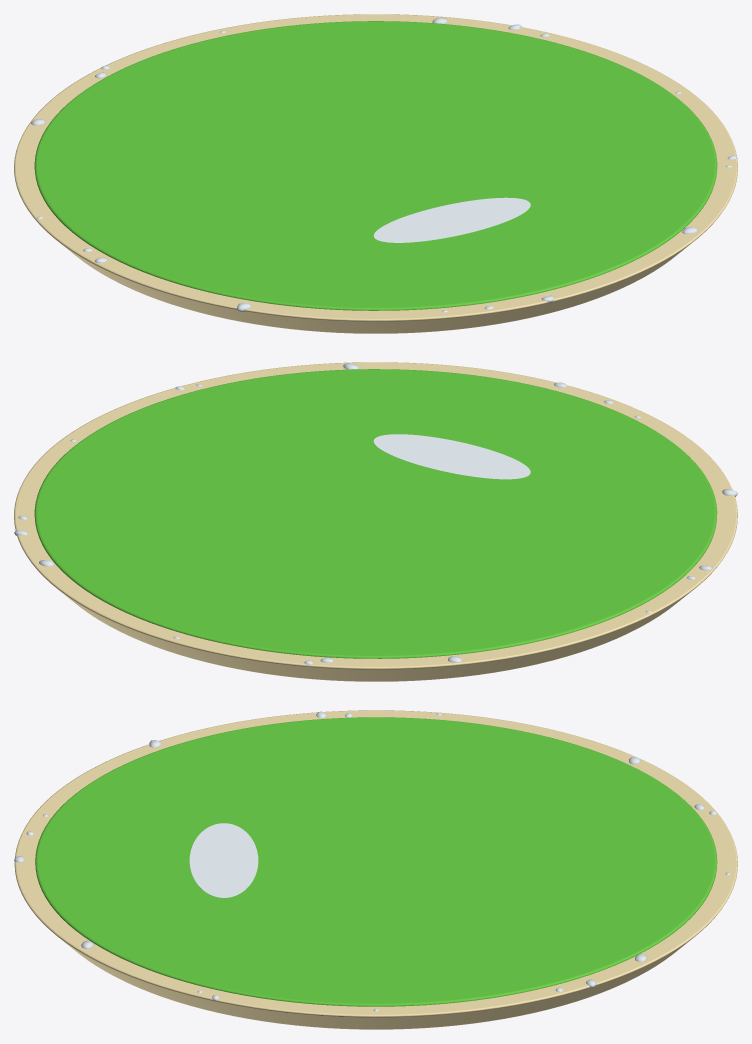
File: island.glb
3 views of the same model, one above another, from view 1: azimuth 30°, elevation 25°; view 2: azimuth 150°, elevation 25°; view 3: azimuth 270°, elevation 25° (orthographic).
Visible parts, largest first — view 1: Island; view 2: Island; view 3: Island.
Part boxes in pixels (bbox=[...]): Island: bbox=[14, 14, 737, 333]; Island: bbox=[14, 362, 737, 681]; Island: bbox=[14, 710, 737, 1029].
Size of the model in its own units: 147 by 6.67 by 147.
